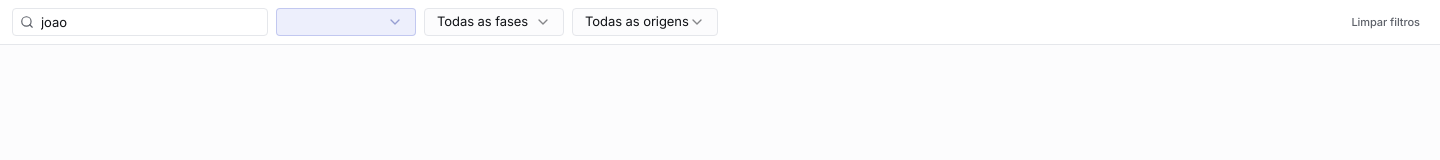
Test case: PipelineFilters — URL state + debounce (RS-09) › Limpar filtros zera URL params e local search
The image size is (1440, 160).
Click the button "Limpar filtros" at coordinates (1386, 22), box [1343,8,1428,36]
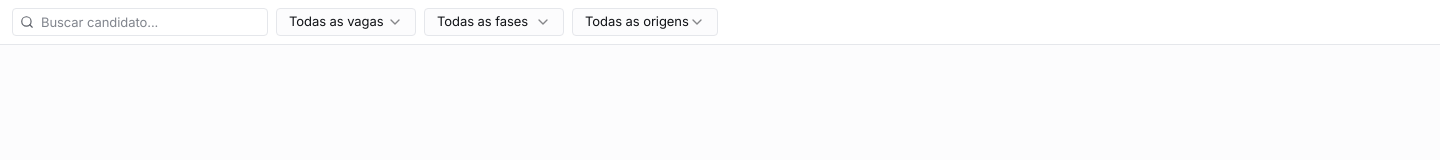
Expected: the search field with placeholder "Buscar candidato..." is empty, [12,8,268,36]
